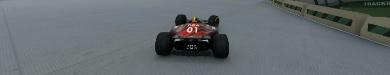Car: (154, 13, 229, 58)
curve: (0, 0, 389, 74)
obstacles-Borders: (266, 0, 389, 55)
